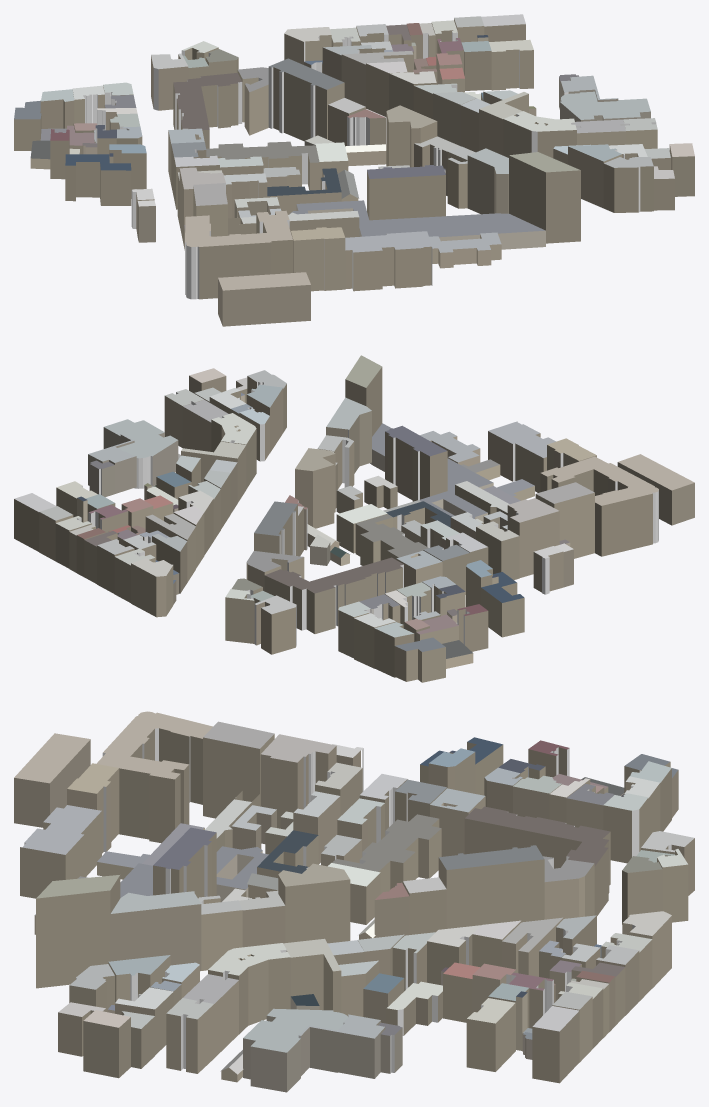
3 views of the same model, one above another, from view 1: azimuth 30°, elevation 25°; view 2: azimuth 150°, elevation 25°; view 3: azimuth 270°, elevation 25° (orthographic). The views are drawn at different scales.
Parts seen in each view (by area): view 1: tuile; view 2: tuile; view 3: tuile.
Boxes of the visible parts, <box> form: tuile: <box>14,14,694,326</box>; tuile: <box>14,355,694,682</box>; tuile: <box>14,711,694,1092</box>.
Bounding box in the file's own units: 283 × 40.83 × 256.
